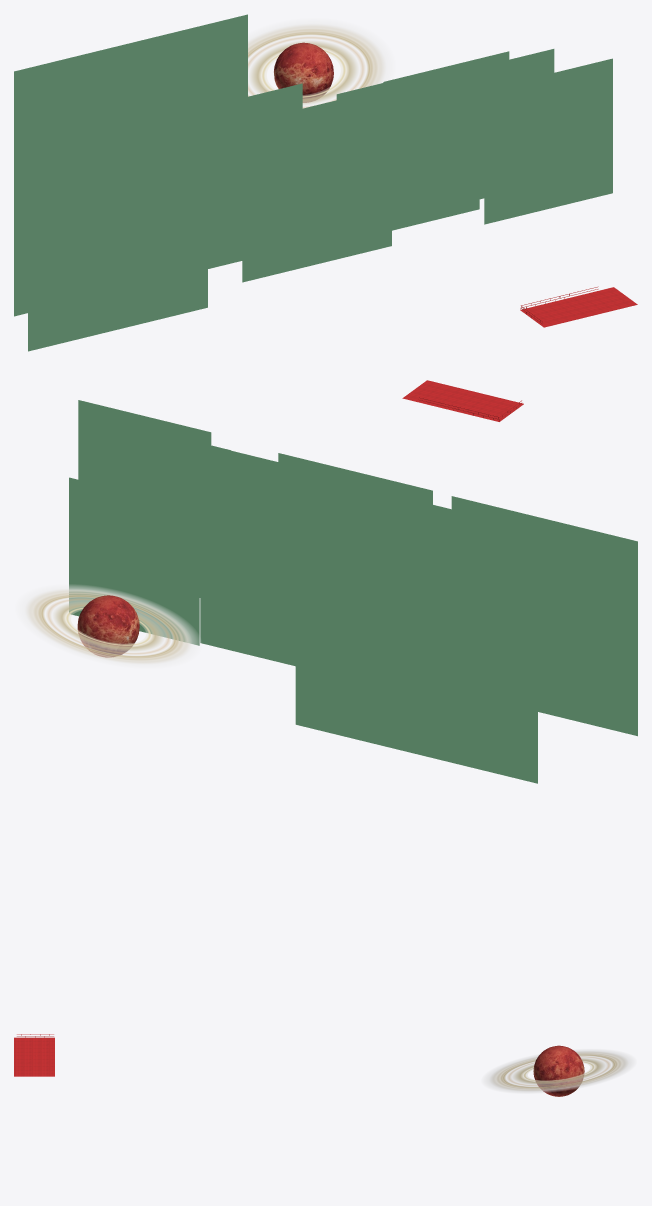
The model's file is exo planet.glb.
The picture shows the model from 3 angles, top to bottom: view 1: azimuth 30°, elevation 25°; view 2: azimuth 150°, elevation 25°; view 3: azimuth 270°, elevation 25°; orthographic projection. The views are drawn at different scales.
Parts seen in each view (by area): view 1: cloud.005, cloud.004, cloud, cloud.007, cloud.001, cloud.002, ring, cloud.006, planet, ground; view 2: cloud.004, cloud.005, cloud.009, cloud.010, ring, cloud.006, cloud.001, cloud.007, planet, cloud.003, ground, cloud.008 (+1 smaller); view 3: ring, planet, ground.
Part boxes in pixels (x1,y1,x2,y2): cloud.005: (28,119,207,351); cloud.004: (14,14,247,316); cloud: (242,89,391,282); cloud.007: (484,58,612,224); cloud.001: (427,49,554,211); cloud.002: (164,83,302,250); ring: (248,19,393,108); cloud.006: (336,59,479,230); planet: (274,42,333,102); ground: (520,287,637,327); cloud.004: (295,471,537,783); cloud.005: (451,496,637,736); cloud.009: (69,477,199,645); cloud.010: (200,533,295,666); ring: (17,585,199,667); cloud.006: (168,435,316,597); cloud.001: (100,418,230,492); cloud.007: (78,400,211,484); planet: (77,595,139,657); cloud.003: (227,498,295,555); ground: (402,380,523,421); cloud.008: (133,474,219,580); ring: (483,1049,634,1093); planet: (533,1045,584,1096); ground: (14,1037,54,1076).
Bounding box in the file's own units: 216 × 89.68 × 244.
4 materials, 3 textured.
